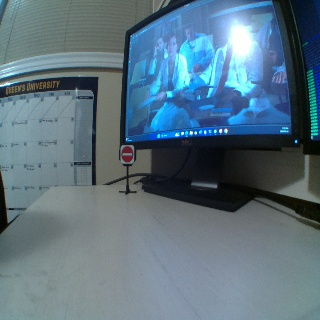sign_noentry: (120, 144, 134, 162)
